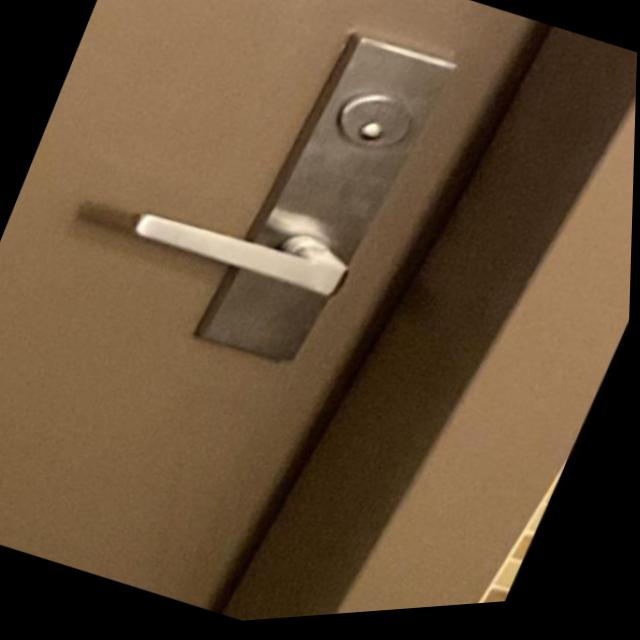door_handle: (79, 131, 410, 369)
